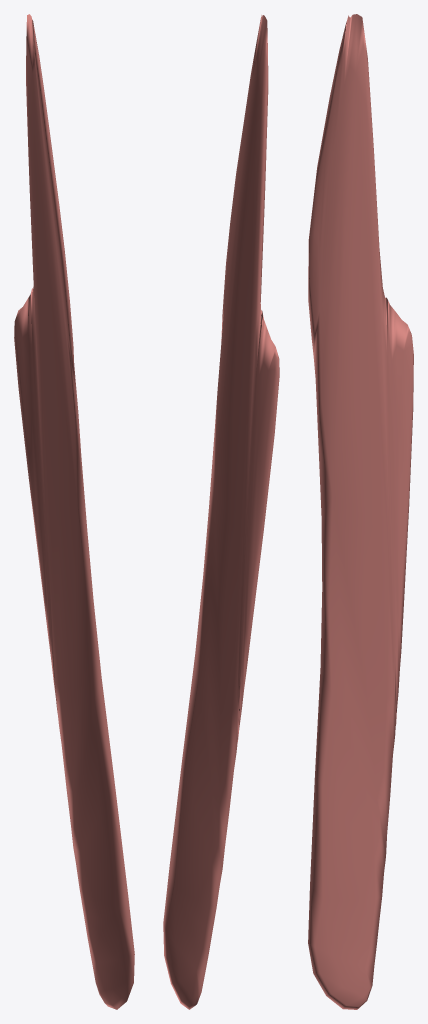
The picture shows the model from 3 angles, left to right: view 1: azimuth 30°, elevation 25°; view 2: azimuth 210°, elevation 25°; view 3: azimuth 270°, elevation 25°; orthographic projection. The views are drawn at different scales.
Parts seen in each view (by area): view 1: ZA_d4b1b7be7571f624; view 2: ZA_d4b1b7be7571f624; view 3: ZA_d4b1b7be7571f624.
Part boxes in pixels (x1,y1,x2,y2): ZA_d4b1b7be7571f624: (14, 14, 134, 1009); ZA_d4b1b7be7571f624: (163, 15, 279, 1009); ZA_d4b1b7be7571f624: (308, 14, 413, 1009).
Bounding box in the file's own units: 0.00751 × 0.0873 × 0.00873.
